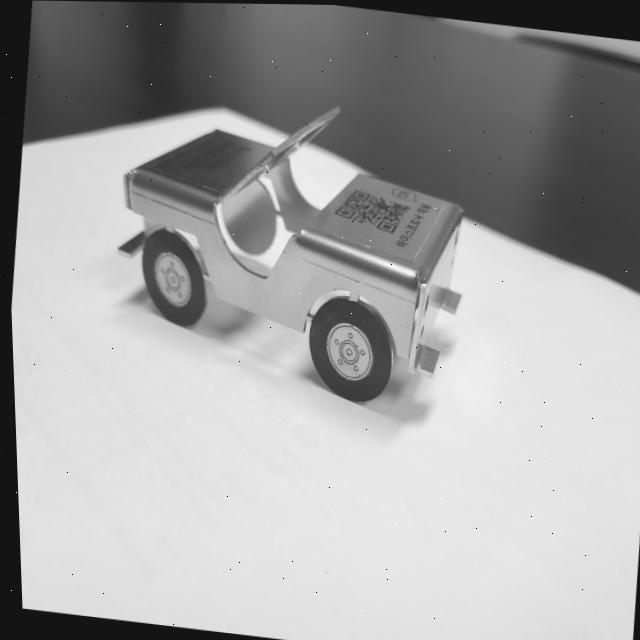tire: (300, 291, 399, 403), (135, 225, 212, 328)
